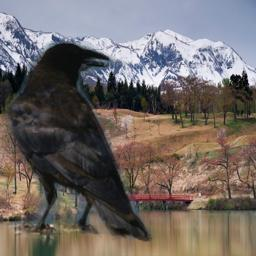Crow: (7, 41, 153, 247)
